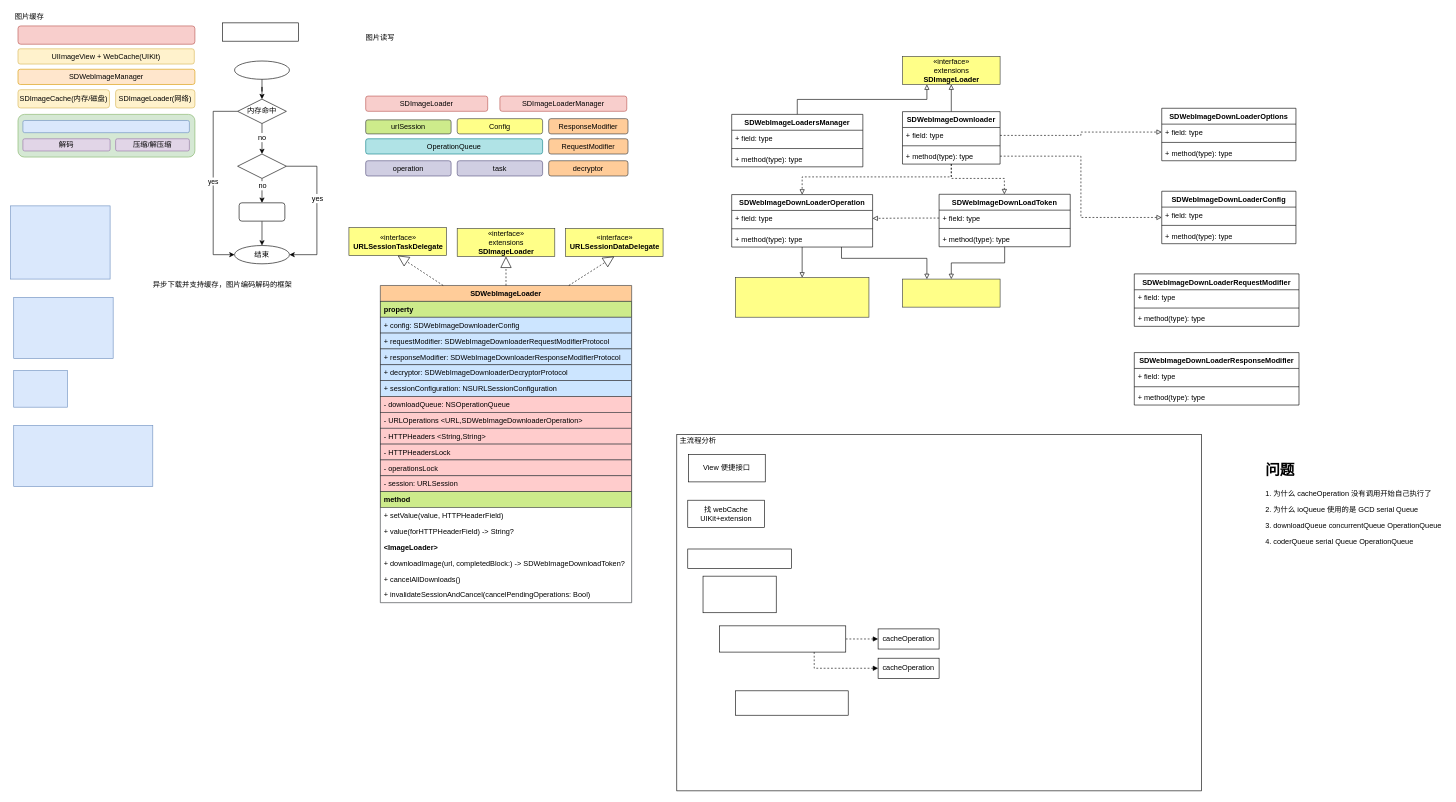
This 1456x802 diagram has some shape labels left out. The centre of each missing label's shape, as x and y in pixels:
"callCacheProcessForOperation" belongs at point 791,702.
"image 编码" belongs at point 105,126.
"loadImageWithURL" belongs at point 739,594.
"sd_internalSetImageWithURL" belongs at point 739,558.
"SDWebImage" belongs at point 106,34.
"SDWebImageCombinedOperation" belongs at point 782,638.
"«interface» extensions SDWebImageDownloaderOperation" belongs at point 802,297.
"«interface» extensions SDWebImageOperation" belongs at point 951,292.
"内存设计 存储size * 10kb * 50kb * 100kb 淘汰策略(OS内存淘汰机制) * FIFO * LRU" belongs at point 60,242.
"图片解码 使用策略模式根据不同格式文件进行解码 何时解码处理(解码一般在 main thread 中进行) 1. 磁盘读取后 2. 网络请求返回后" belongs at point 83,455.
"图片读写方式：使用 url 的hash值作为读写" belongs at point 260,31.
"开始" belongs at point 261,69.
"磁盘命中" belongs at point 261,165.
"磁盘设计 存储size 存储方式 淘汰策略(OS内存淘汰机制) * 文件排序，根据时间删除" belongs at point 63,327.
"网络下载" belongs at point 262,211.
"网络设计 并发设计 请求超时处理 请求优先级" belongs at point 40,388.
